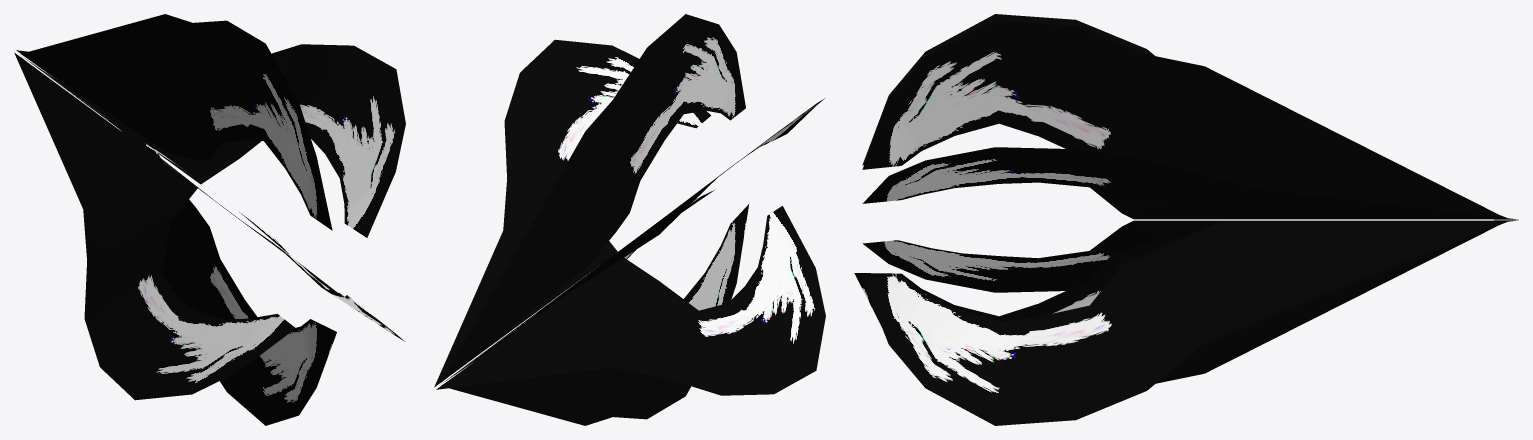
The model's file is zhufudatianshijueduiquanzhang002.fbx.
3 views of the same model, side by side, from view 1: azimuth 30°, elevation 25°; view 2: azimuth 150°, elevation 25°; view 3: azimuth 270°, elevation 25° (orthographic). The views are drawn at different scales.
Parts seen in each view (by area): view 1: zhufudatianshijueduiquanzhang002; view 2: zhufudatianshijueduiquanzhang002; view 3: zhufudatianshijueduiquanzhang002.
Part boxes in pixels (x1=…): zhufudatianshijueduiquanzhang002: x1=14, y1=14, x2=405, y2=425; zhufudatianshijueduiquanzhang002: x1=434, y1=14, x2=825, y2=425; zhufudatianshijueduiquanzhang002: x1=854, y1=14, x2=1518, y2=425.
Bounding box in the file's own units: 182 × 254 × 383.
